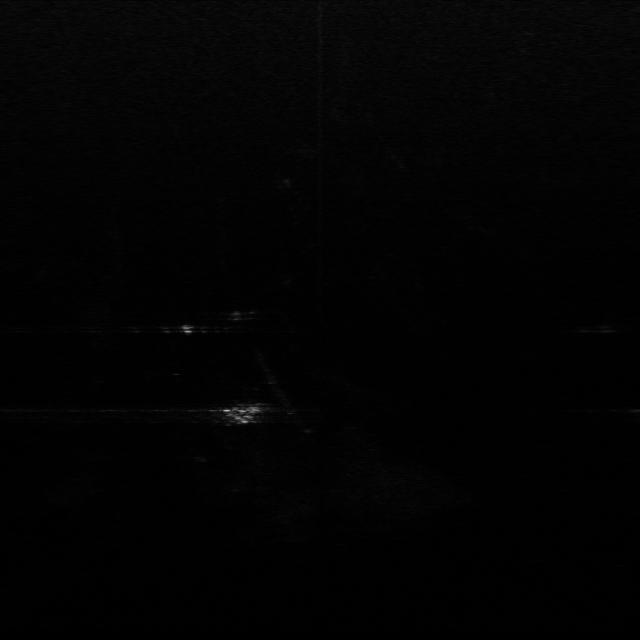rov: (220, 403, 266, 424)
